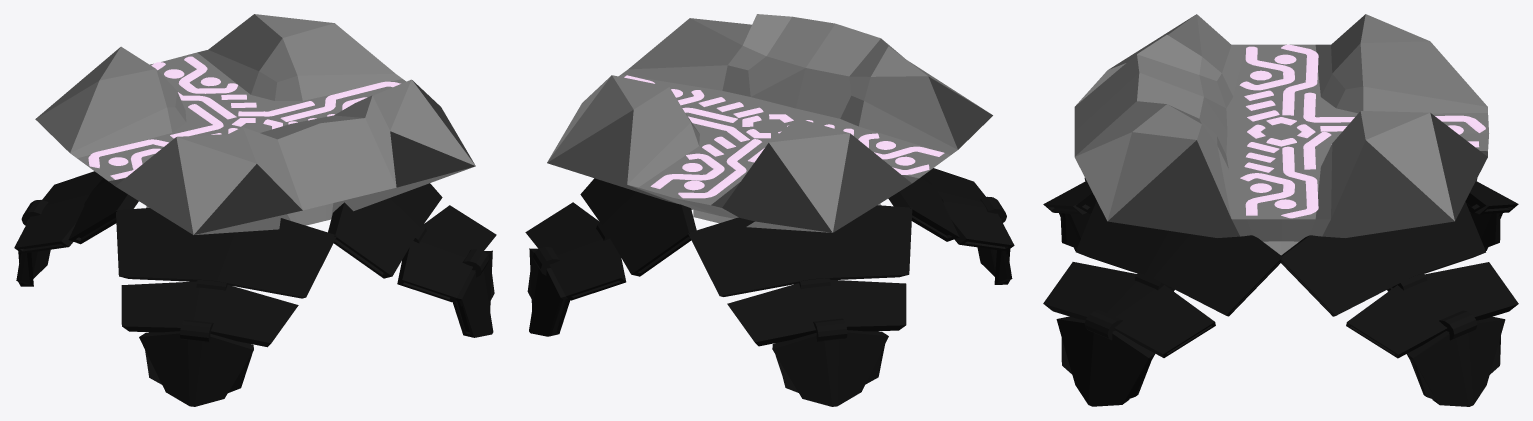
The model's file is T_rail.fbx.
3 renders of one model, left to right at view 1: azimuth 30°, elevation 25°; view 2: azimuth 150°, elevation 25°; view 3: azimuth 270°, elevation 25°, orthographic. The views are drawn at different scales.
Parts seen in each view (by area): view 1: rail, rune; view 2: rail, rune; view 3: rail, rune.
Part boxes in pixels (x1=…): rail: x1=14, y1=14, x2=496, y2=406; rune: x1=88, y1=56, x2=400, y2=179; rail: x1=525, y1=14, x2=1014, y2=406; rune: x1=624, y1=75, x2=944, y2=198; rail: x1=1043, y1=14, x2=1518, y2=406; rune: x1=1239, y1=44, x2=1485, y2=218.
Bounding box in the file's own units: 418 × 249 × 418.
